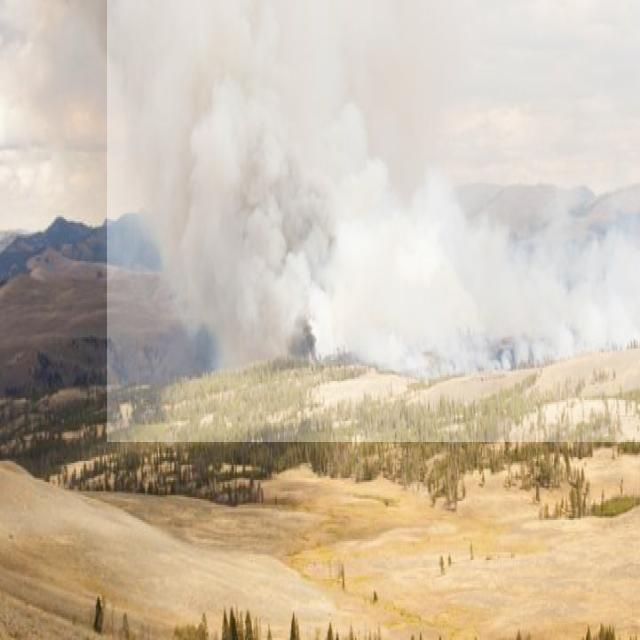Smoke: (107, 0, 640, 442)
